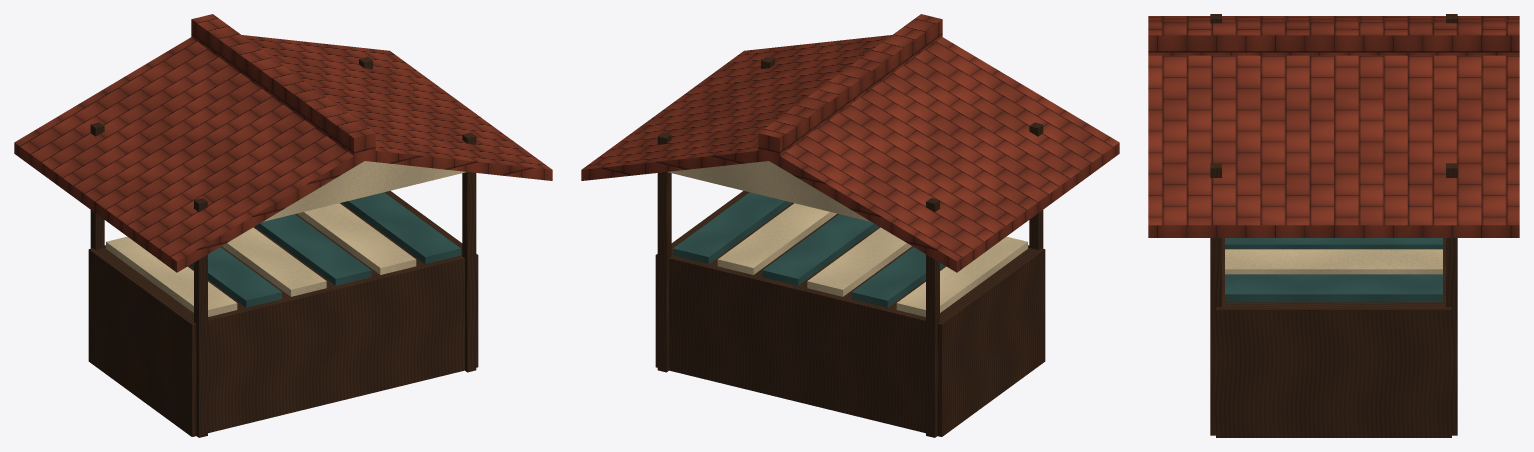
File: SG_Market_Stall_LOD0.fbx
3 views of the same model, side by side, from view 1: azimuth 30°, elevation 25°; view 2: azimuth 150°, elevation 25°; view 3: azimuth 270°, elevation 25° (orthographic). The views are drawn at different scales.
Parts seen in each view (by area): view 1: SG_Market_Stall_Detail0; view 2: SG_Market_Stall_Detail0; view 3: SG_Market_Stall_Detail0.
Boxes of the visible parts, <box> form: SG_Market_Stall_Detail0: <box>14,14,552,437</box>; SG_Market_Stall_Detail0: <box>581,14,1119,437</box>; SG_Market_Stall_Detail0: <box>1148,14,1519,437</box>.
Bounding box in the file's own units: 8.4 × 6.16 × 6.3.
